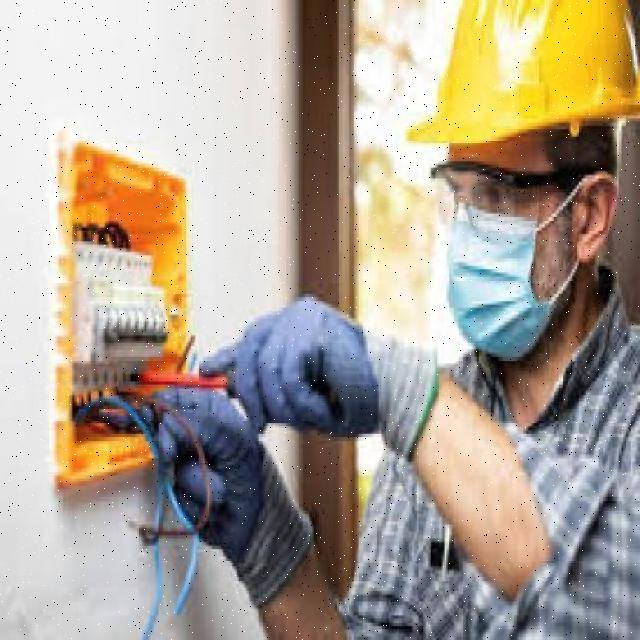Hard_hat: (413, 0, 634, 149)
